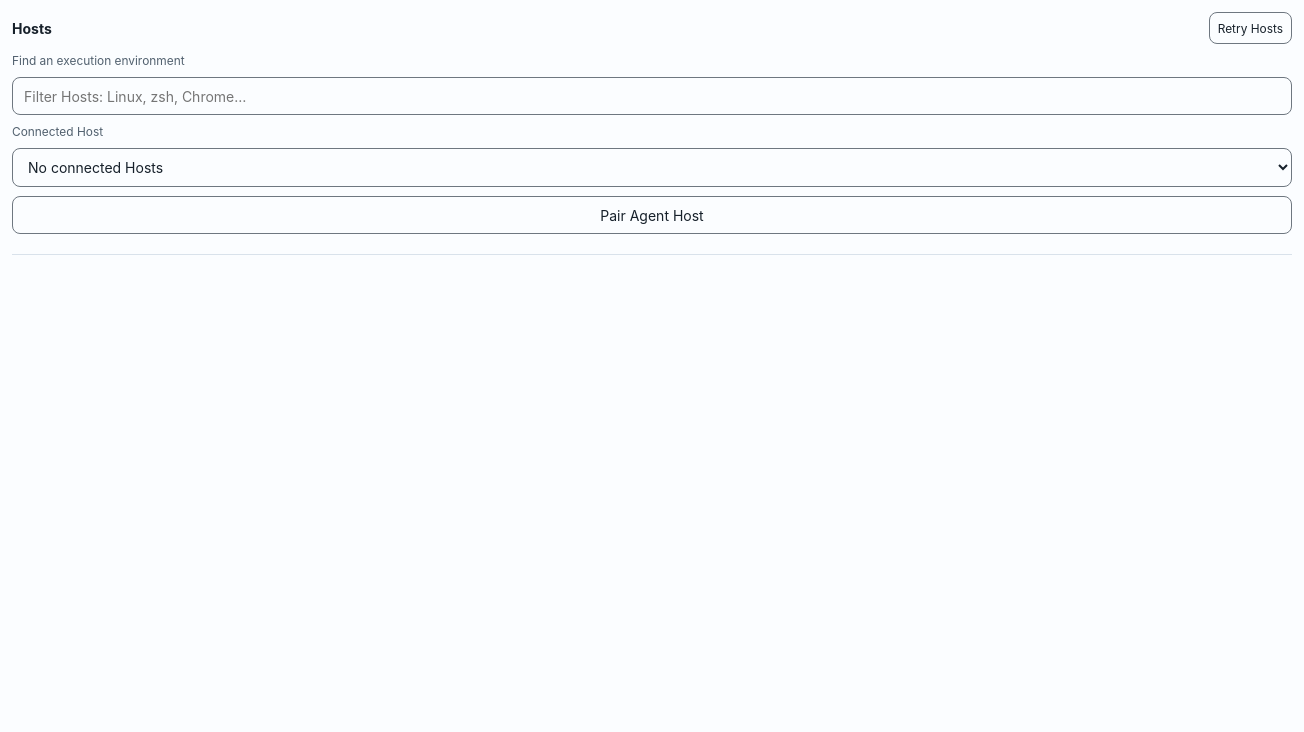
it: does not offer Gateway setup when the server supports only Host pairing
Click the button "Pair Agent Host". click: (652, 215)
box: [12,196,1292,234]
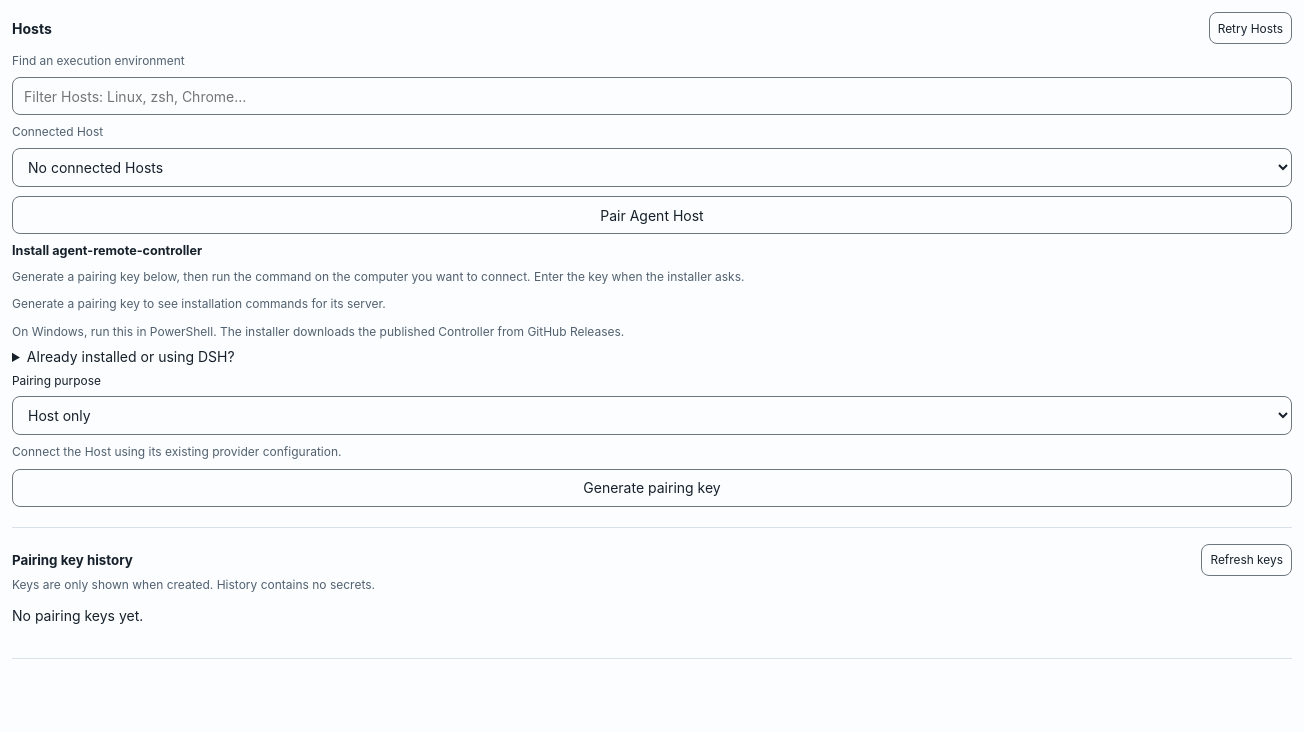
Expected: the text "No pairing keys yet" is shown, [12,607,143,624]
